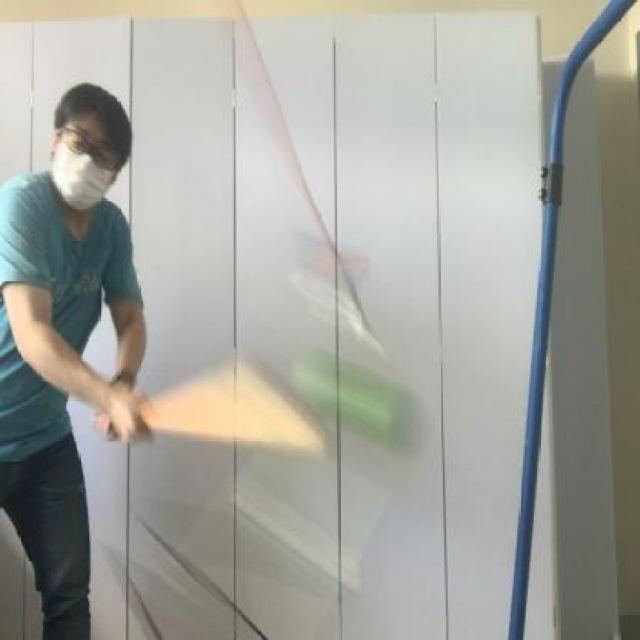baseball: (283, 338, 432, 472)
